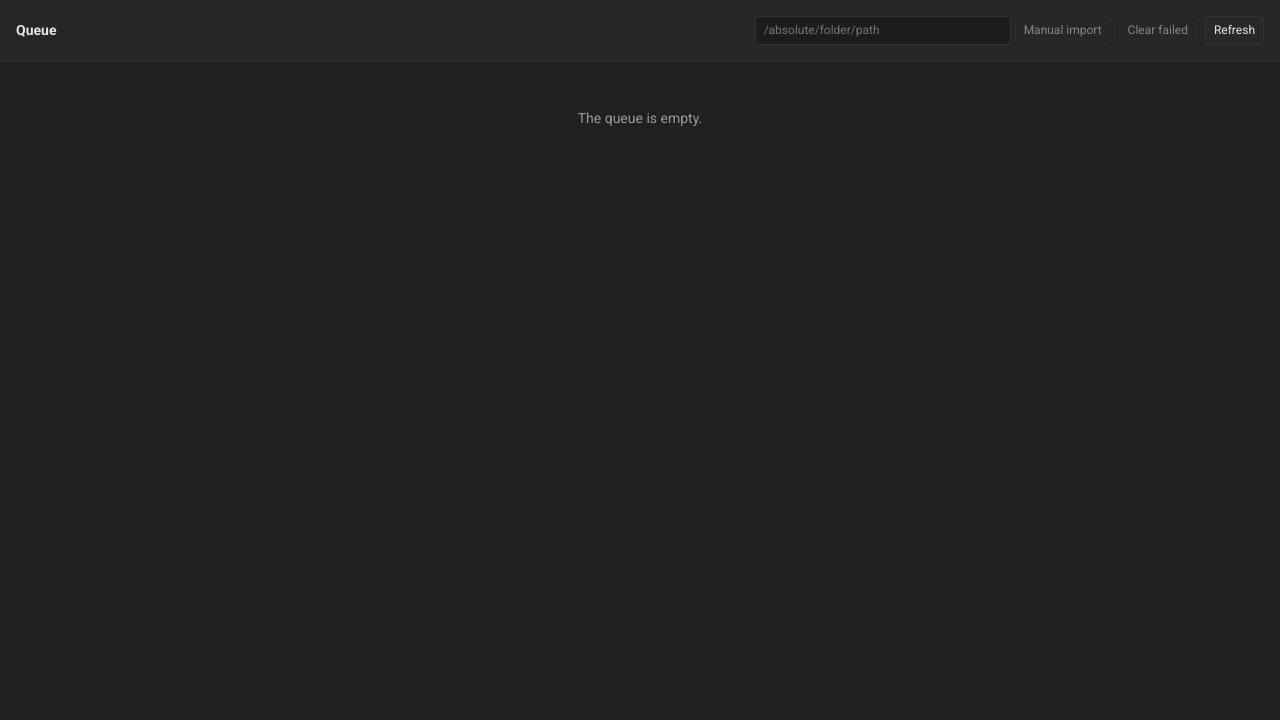
it: FRG-UI-014: manual import overlay › FRG-UI-014 — reachable from the path picker: lists that folder’s candidates with per-file controls
// The path picker is a toolbar affordance independent of the queue rows.
Type "/comics/_unsorted" into the field named "Manual import folder path" at (883, 30), box x1=755 y1=16 x2=1011 y2=45
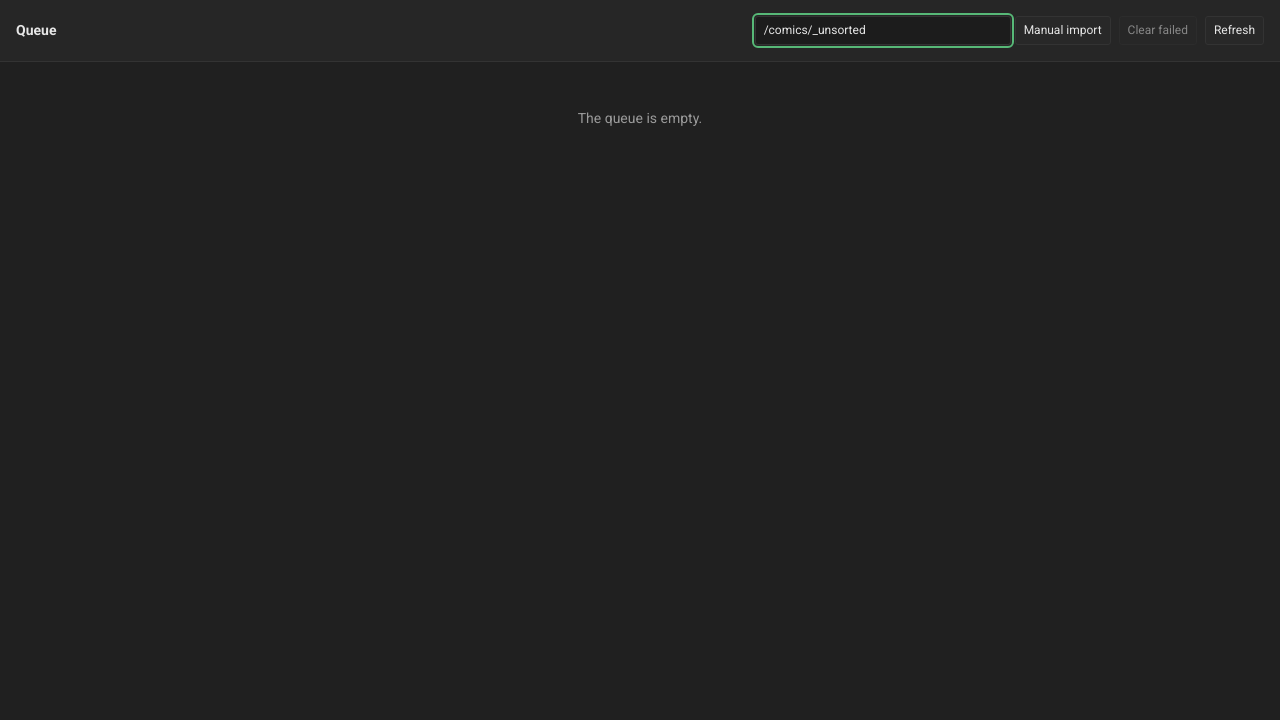
Click the button "Manual import" at (1063, 30), box x1=1015 y1=16 x2=1111 y2=45
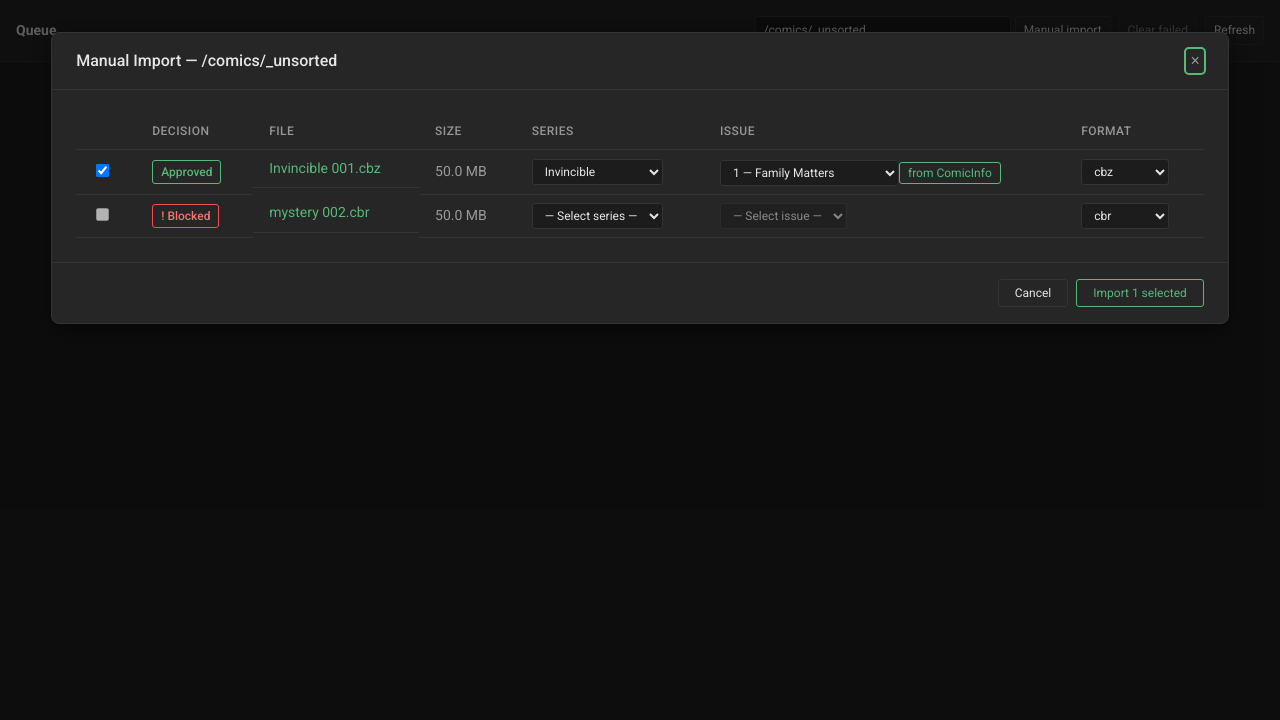
Expected: the row with test id "manual-row-Invincible 001.cbz" is shown, x1=76 y1=149 x2=1204 y2=194
Expected: the dropdown named "Series for Invincible 001.cbz" is shown, x1=532 y1=159 x2=663 y2=185
Expected: the dropdown named "Format for mystery 002.cbr" is shown, x1=1081 y1=203 x2=1169 y2=229
